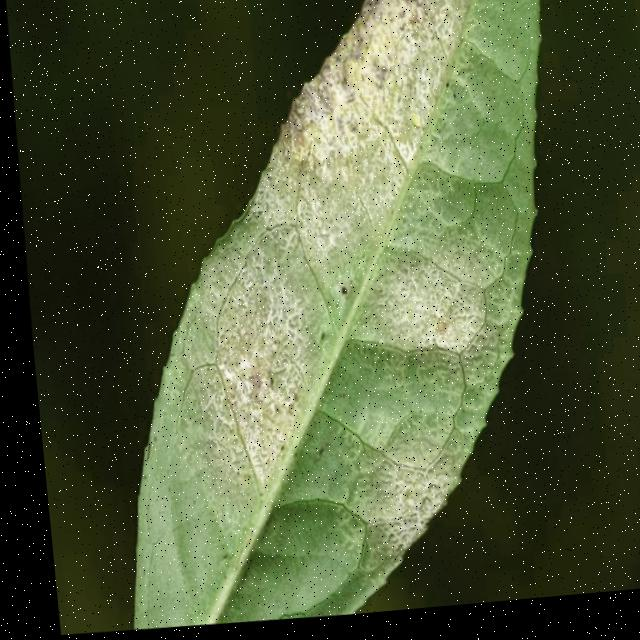Tea exobasidium blight: (262, 0, 437, 223), (158, 245, 303, 463), (357, 235, 491, 403), (346, 424, 444, 560)
